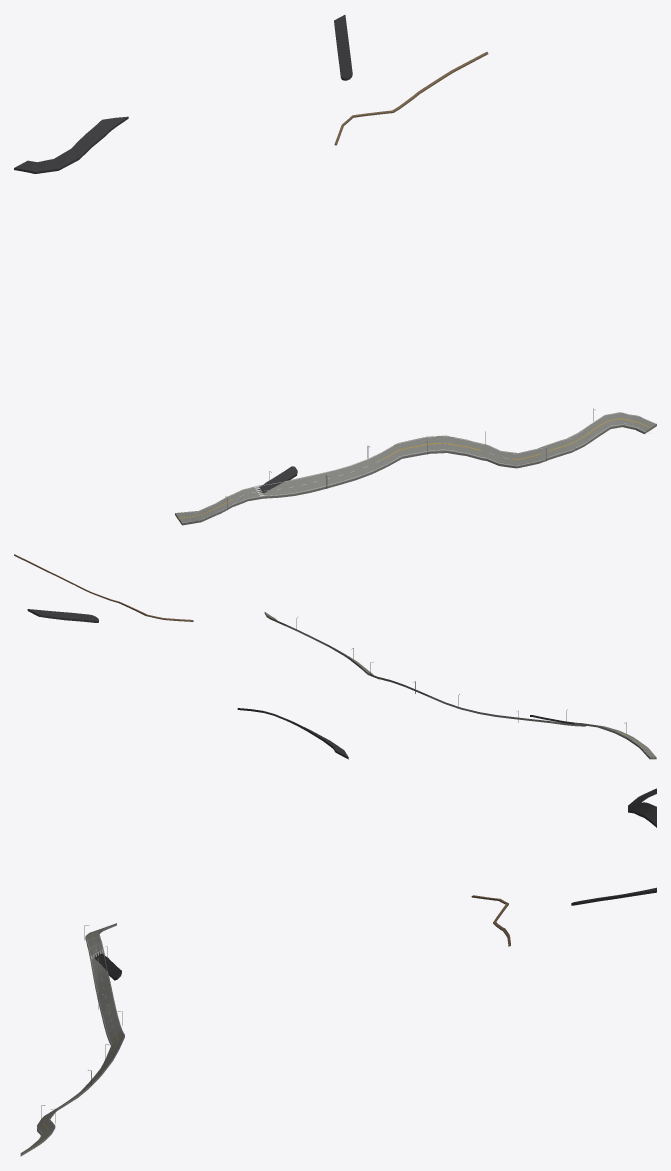
3 views of the same model, one above another, from view 1: azimuth 30°, elevation 25°; view 2: azimuth 150°, elevation 25°; view 3: azimuth 270°, elevation 25° (orthographic). The views are drawn at different scales.
Bounding box in the file's own units: 294 × 138 × 295.
